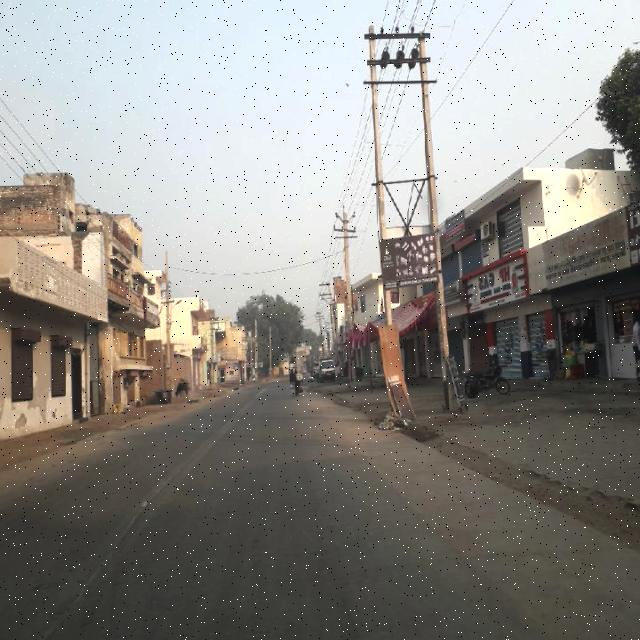D01: (111, 468, 192, 550), (32, 557, 113, 639)
D44: (110, 469, 190, 552), (36, 557, 116, 639)
